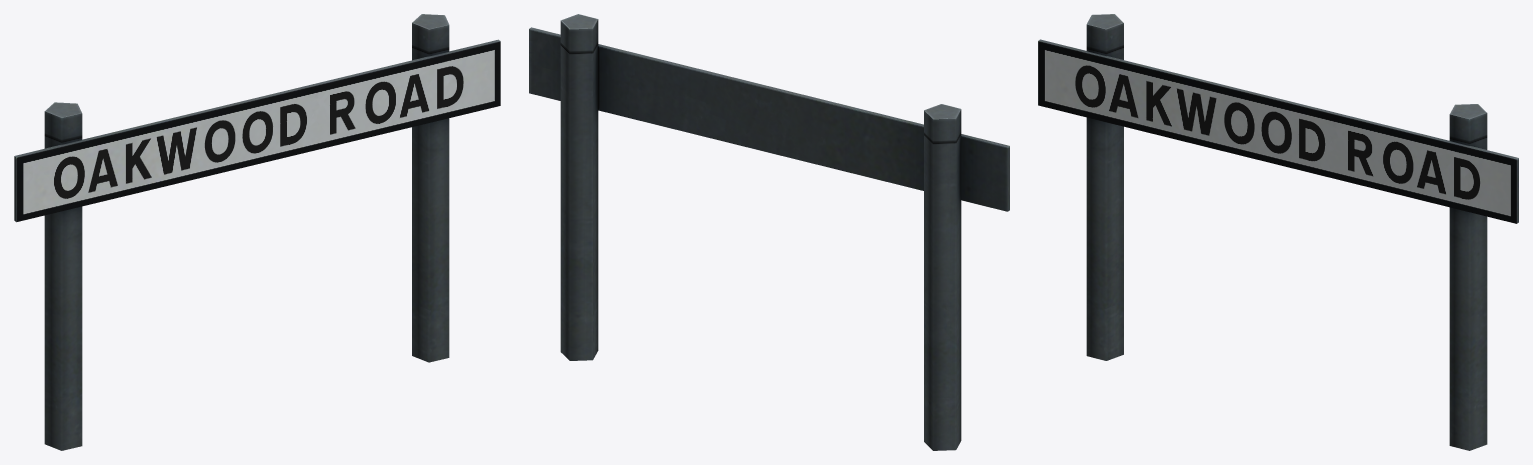
Rendered from Sun_0005_Road_Name_Sign.fbx.
The picture shows the model from 3 angles, left to right: view 1: azimuth 30°, elevation 25°; view 2: azimuth 150°, elevation 25°; view 3: azimuth 330°, elevation 25°; orthographic projection.
Visible parts, largest first — view 1: Sun_0005_Road_Name_Sign; view 2: Sun_0005_Road_Name_Sign; view 3: Sun_0005_Road_Name_Sign.
Boxes of the visible parts, x1,y1,x2,y2 form: Sun_0005_Road_Name_Sign: (14,14,500,450); Sun_0005_Road_Name_Sign: (529,14,1009,450); Sun_0005_Road_Name_Sign: (1038,14,1518,450).
Size of the model in its own units: 139 by 91.53 by 10.62.
